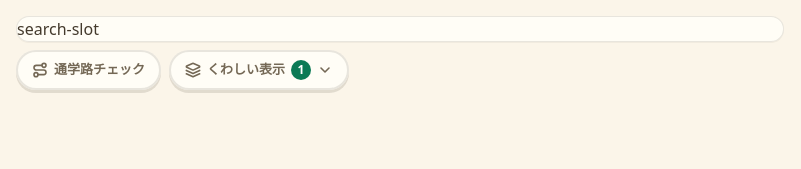
Scenario: MapTopOverlay › folding when the map is touched › shows no count when nothing is on, or while the row is out
This screenshot has width=801, height=169.
Click the button "くわしい表示 1" at {"x": 259, "y": 70}, box [169,50,349,90]
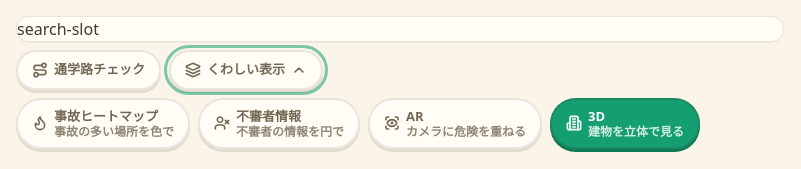
Result: the element with test id "map-details-active-count" is gone
